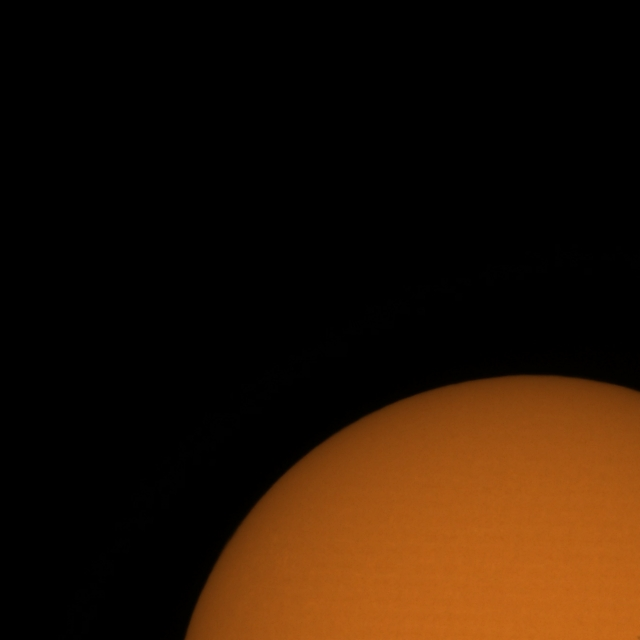sunspot: (635, 634, 640, 640)
